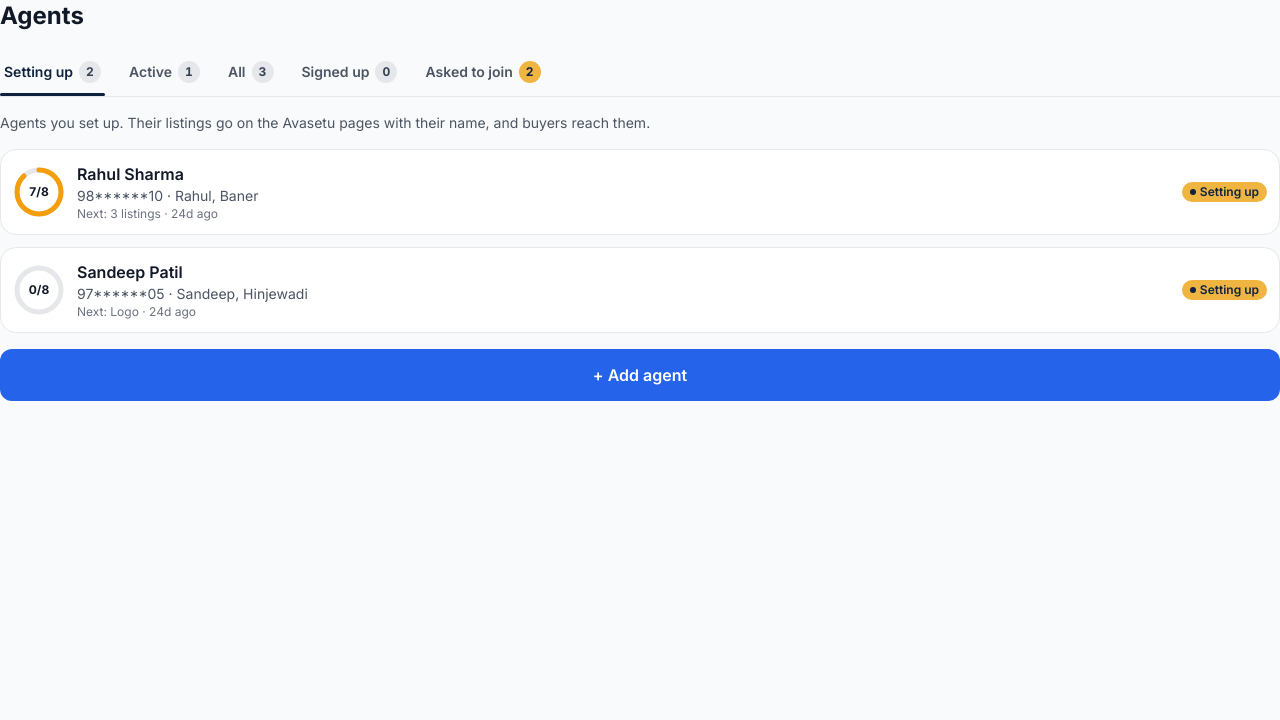
Test case: Agents tabs › Asked to join has the website requests with a gold count; Invite shows the code once
Click the tab "Asked to join 2": (483, 72) [414, 48, 553, 96]
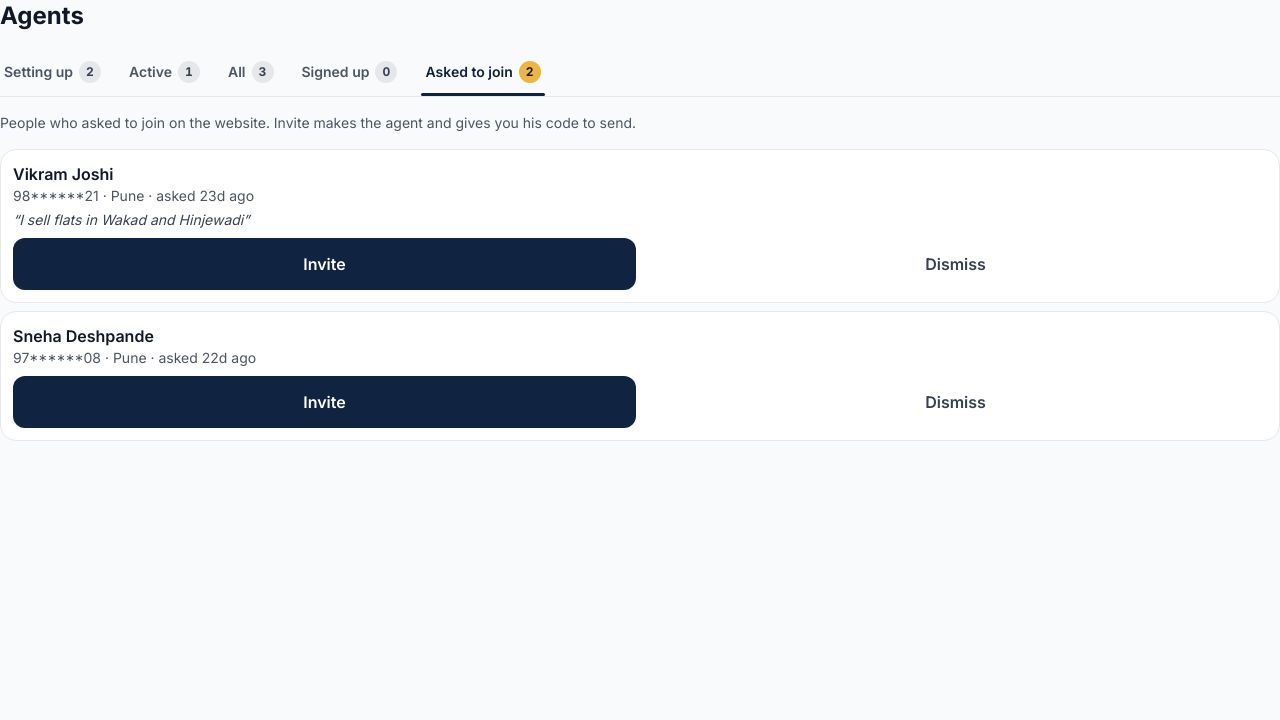
Check: the number of list items with test id "invite-row" is 2, box [0, 149, 1279, 303]; [0, 311, 1279, 441]
Check: the text "98******21 · Pune · asked 23d ago" is shown, box [13, 187, 254, 204]
Click the button "Invite" below "Vikram Joshi": (324, 264) [13, 238, 636, 290]
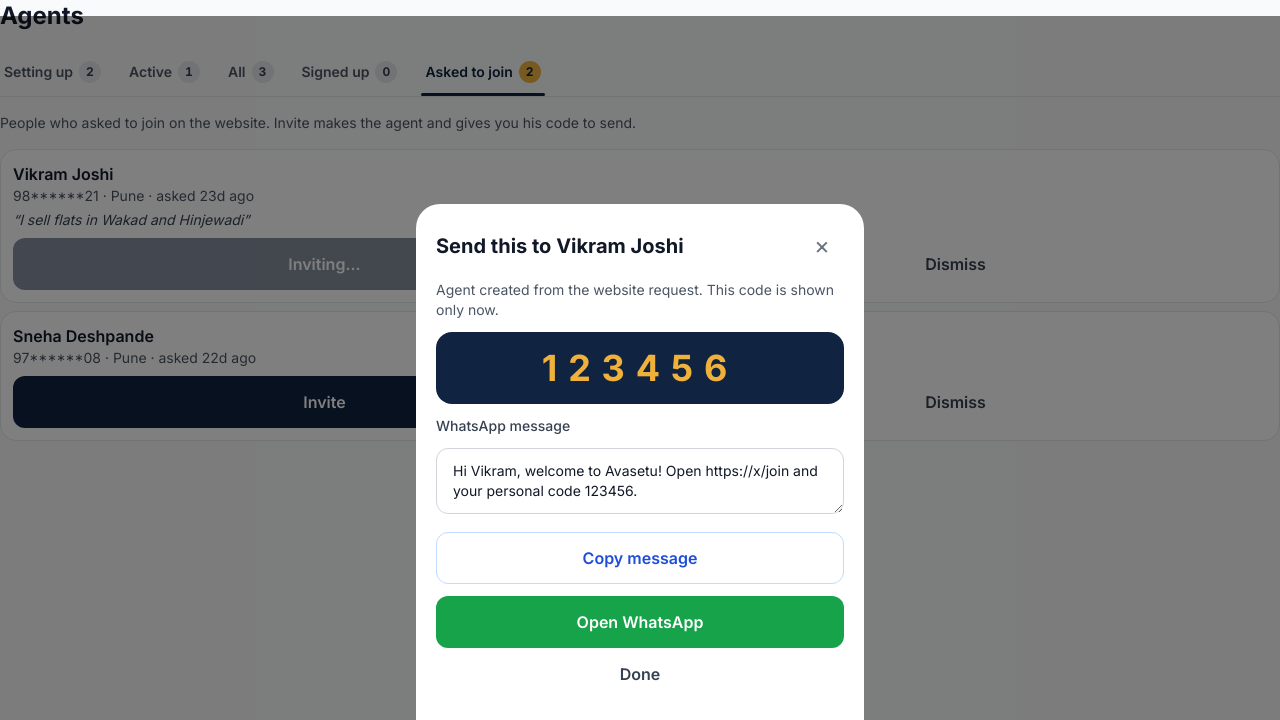
Check: the text with test id "invite-code" reads "123456", box [542, 346, 738, 390]
